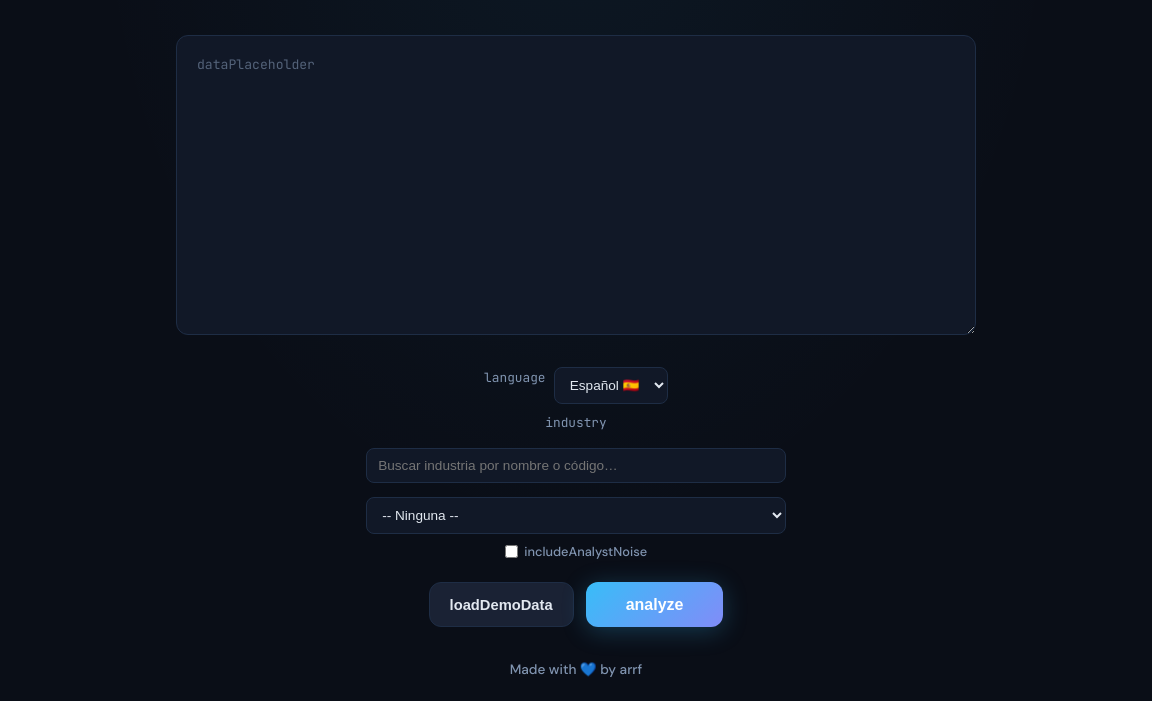
Test: AnalyzerPage › loads demo data into the textarea
This screenshot has width=1152, height=701.
(page scrolled)
What coordinates should you click on to do the following:
click the button "loadDemoData"
I would click on:
 (501, 605)
Its box is [429,582,574,627].
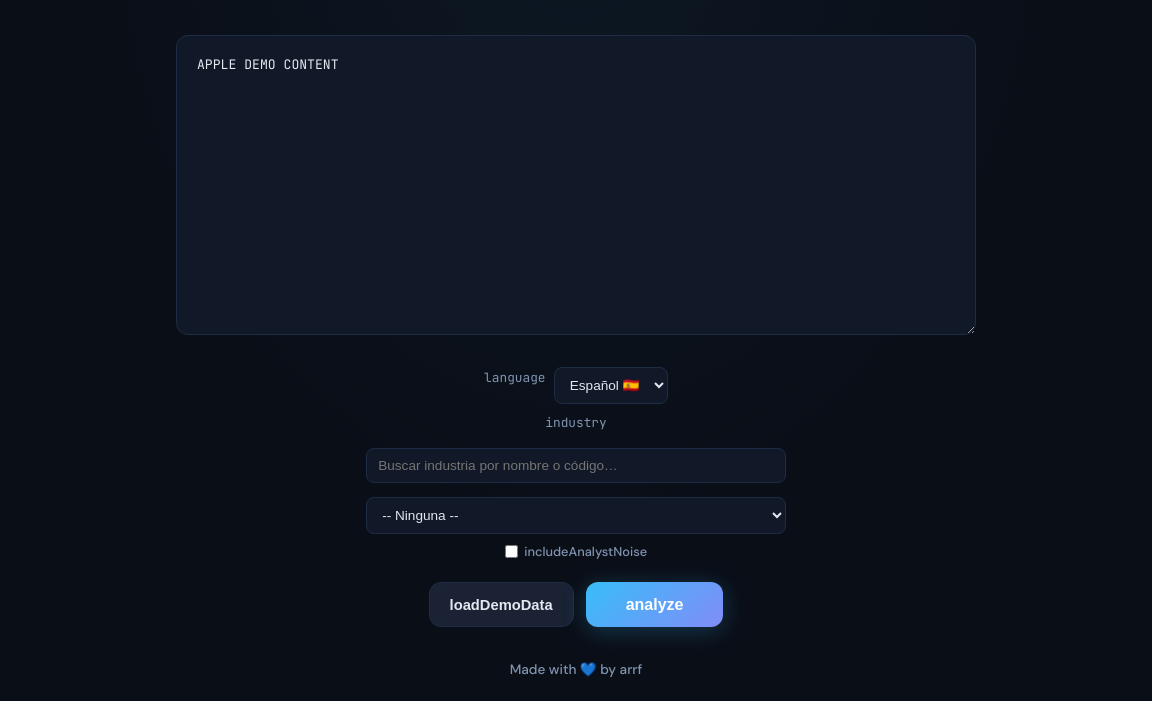
Result: the text box with placeholder "dataPlaceholder" holds "APPLE DEMO CONTENT" at [176,36,976,336]
